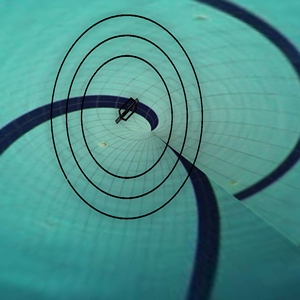circle: (35, 5, 239, 249)
submarine: (107, 91, 146, 128)
